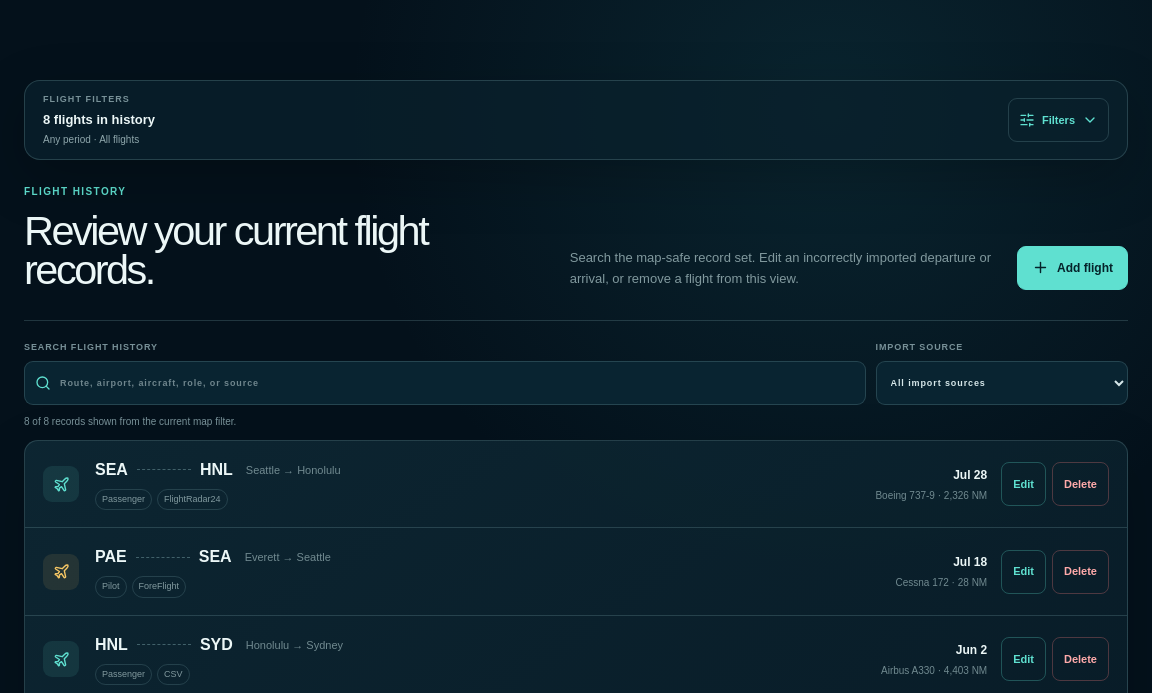
Test: route clients › saves endpoint edits only in the current view
Click the button "Edit" next to "Jul 28" at coordinates (1024, 484), box [1001, 462, 1046, 506]
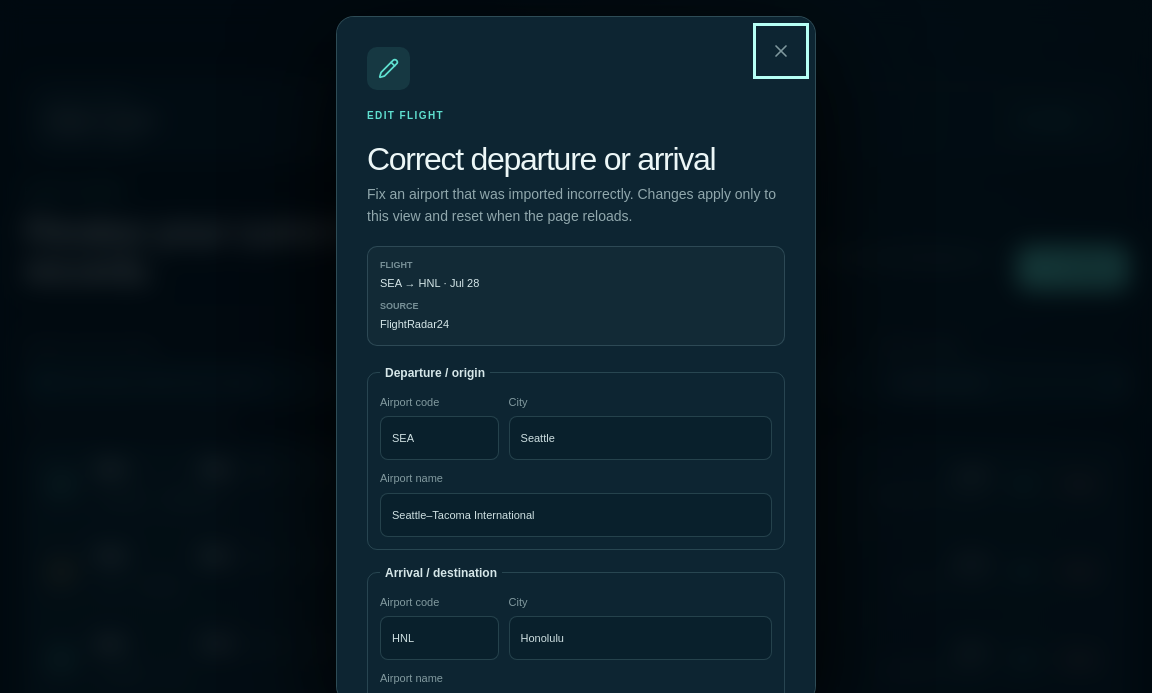
Replace the text in the field named "Departure airport code" with "ZZZ" at coordinates (439, 438), box [380, 416, 498, 460]
(page scrolled)
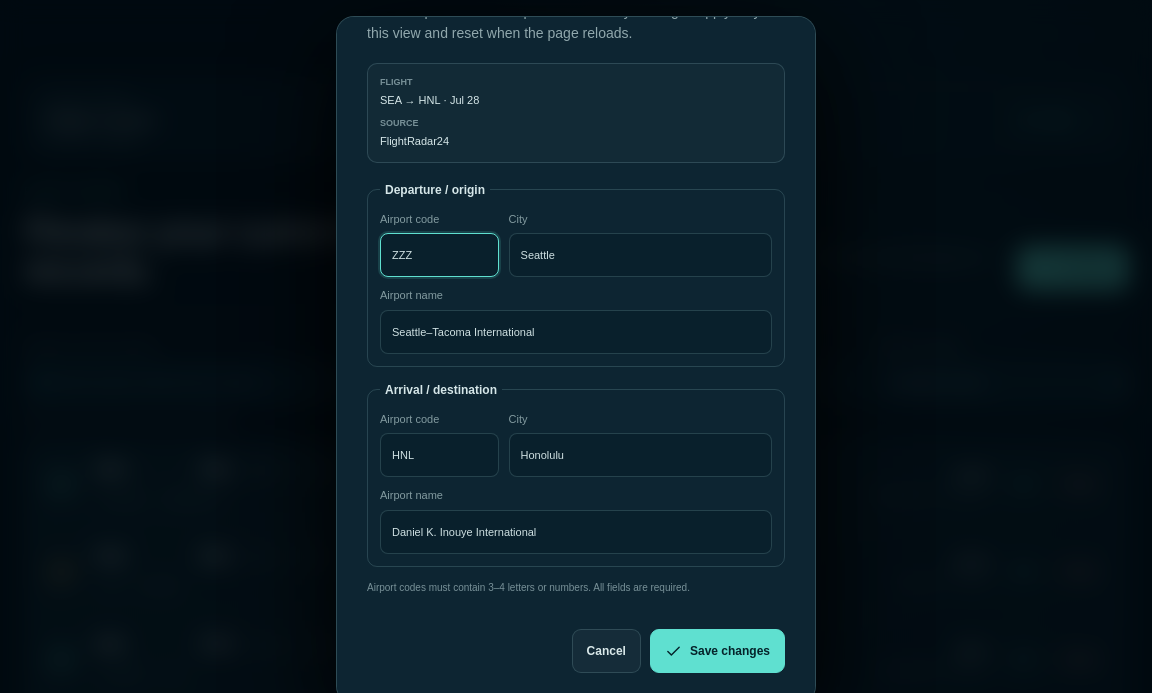
Click the button "Save changes" at coordinates (718, 651), box [650, 629, 785, 673]
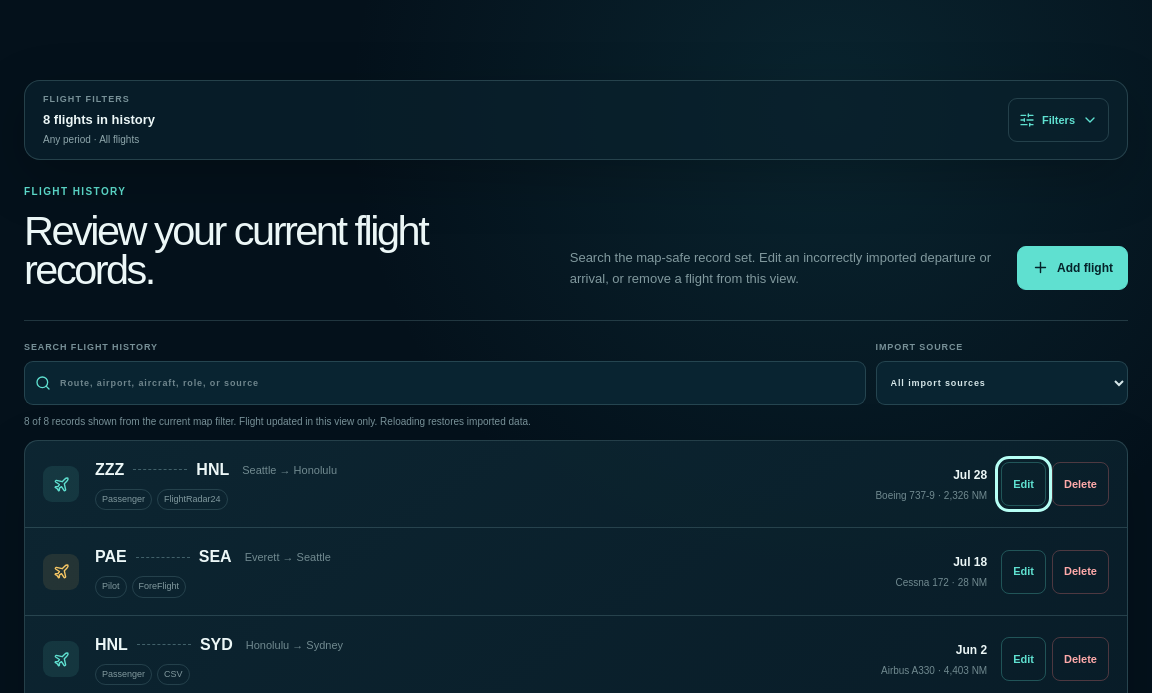
Expected: the button "Edit" next to "Jul 28" is shown, [1001, 462, 1046, 506]
Now the message named "Flight records status" shows "Flight updated in this view only. Reloading restores imported data.", box [236, 416, 531, 427]
